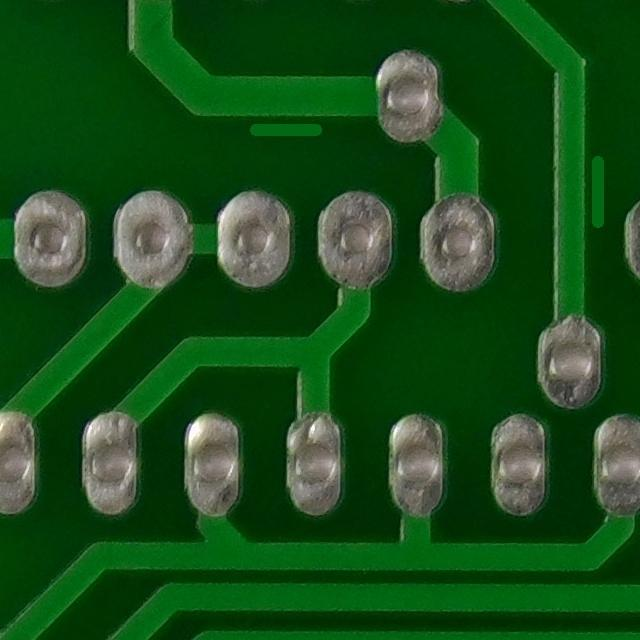spurious_copper: (233, 102, 351, 151), (569, 138, 621, 238)
